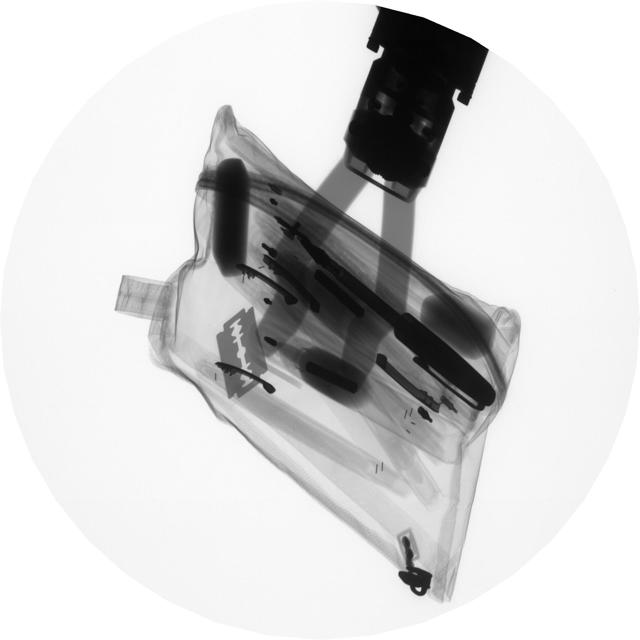razor: (206, 313, 280, 401)
